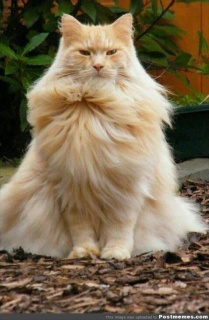Cat: (0, 11, 209, 260)
